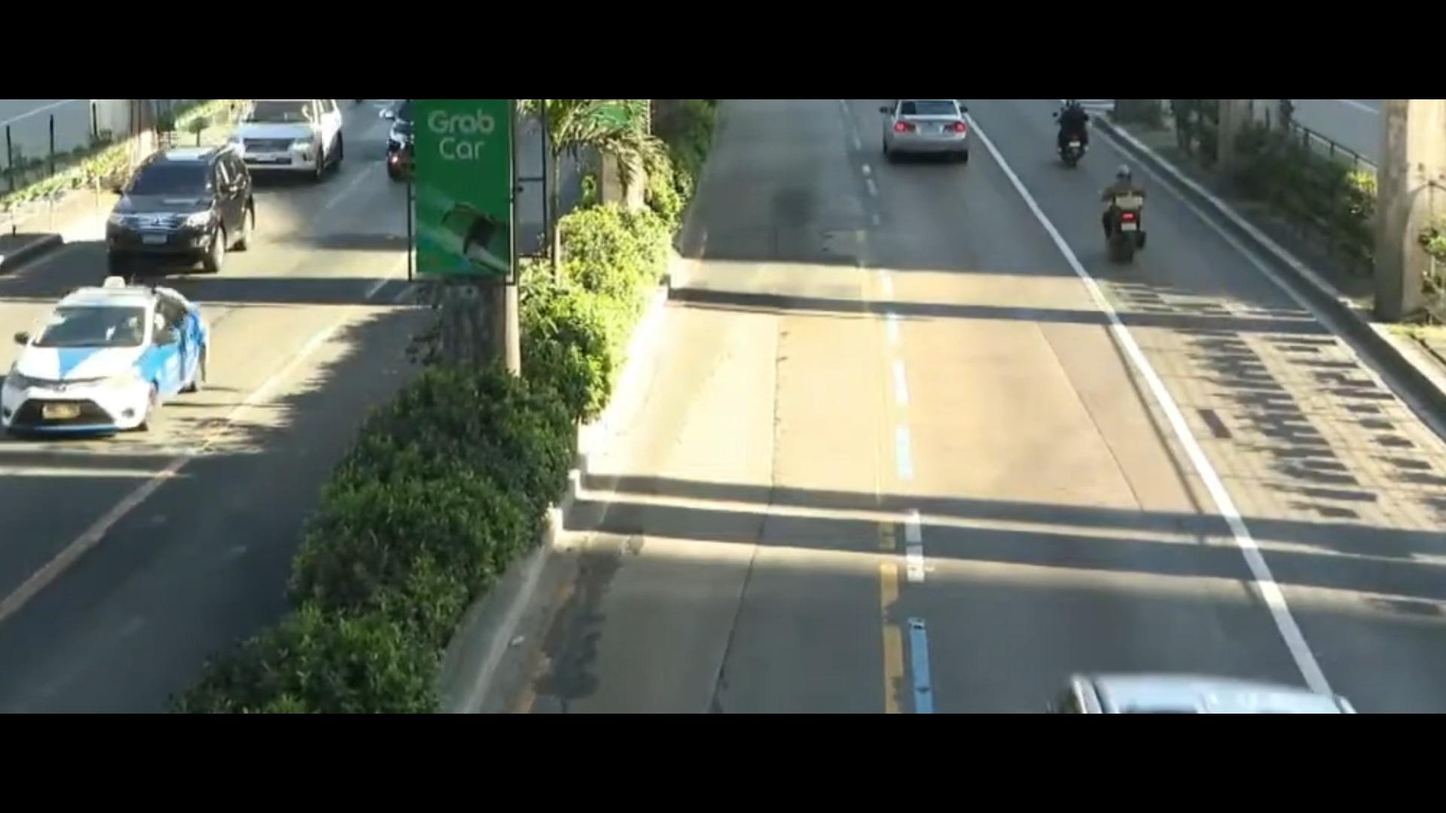Motorcycle: (1083, 149, 1181, 289), (1040, 106, 1105, 170)
SUV: (95, 134, 273, 268), (230, 96, 349, 194)
Sedan: (0, 271, 255, 485), (858, 96, 989, 181)
